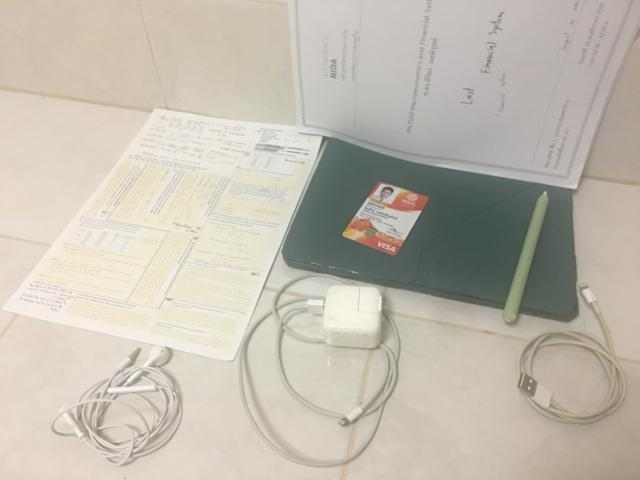paper: (4, 109, 328, 360), (289, 0, 640, 189)
wire: (238, 272, 400, 468), (516, 284, 628, 424), (51, 345, 181, 465)
